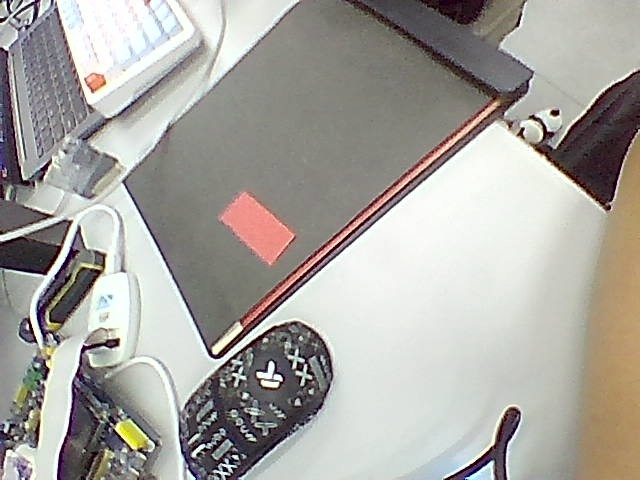card: (219, 192, 294, 264)
